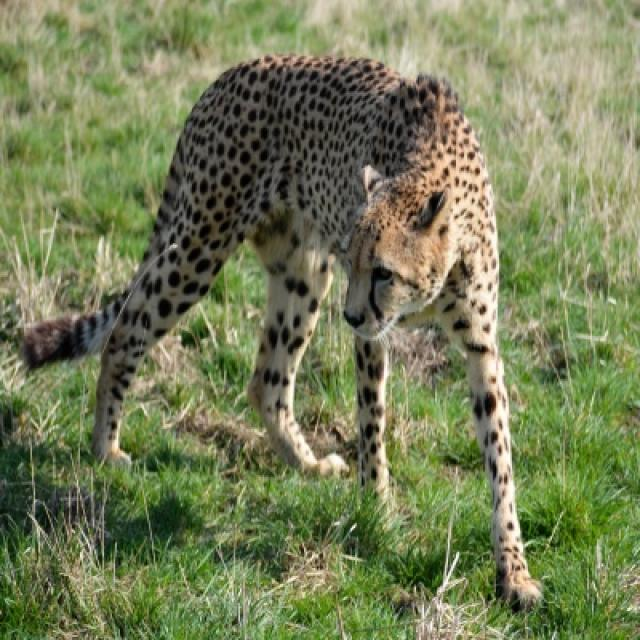Cheetah: (26, 56, 539, 606)
